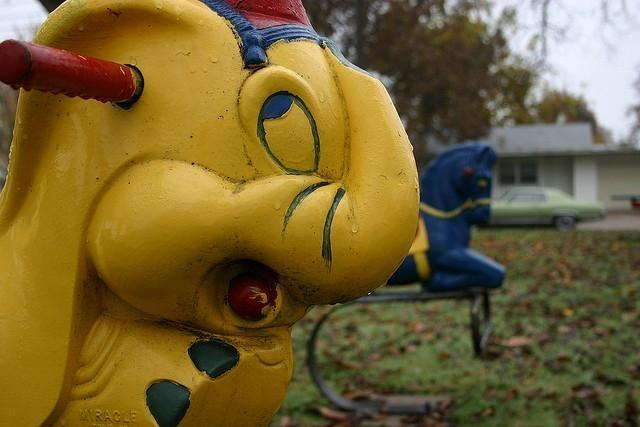car: (490, 187, 608, 234)
